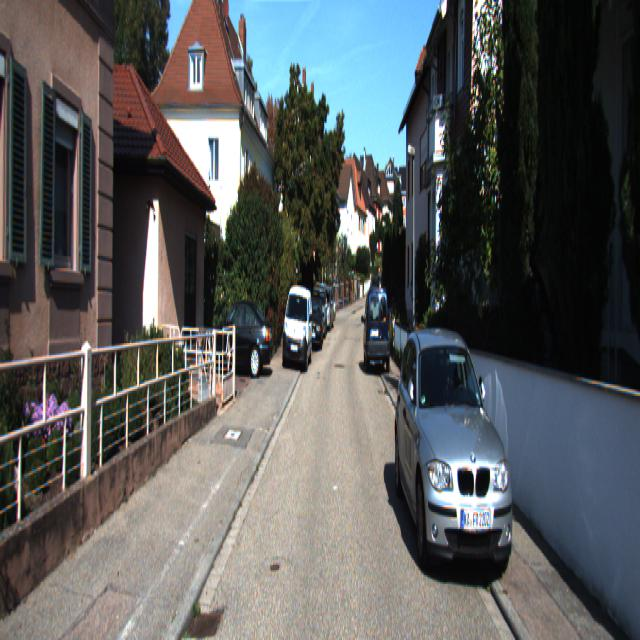Car: (394, 319, 519, 594), (201, 299, 274, 382), (281, 282, 314, 373), (362, 286, 392, 374), (304, 298, 324, 352)
